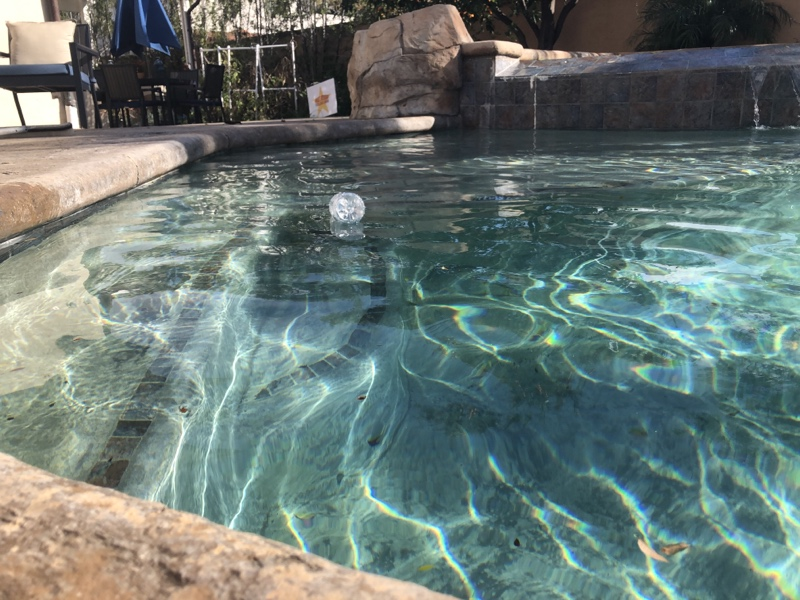Plastic Bottle: (325, 188, 365, 230)
